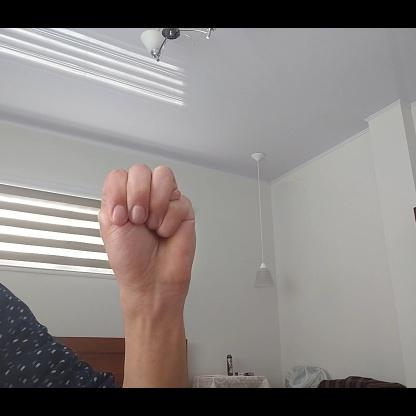M: (97, 161, 199, 294)
